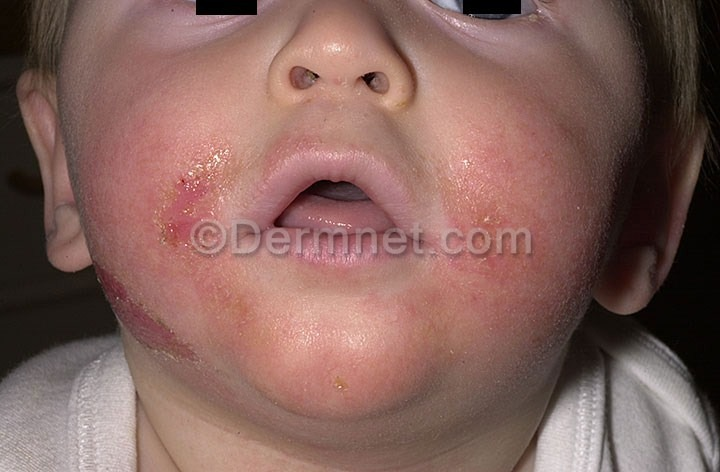Eczema: (433, 111, 609, 365), (238, 282, 429, 426), (77, 137, 250, 261), (89, 263, 233, 362)
